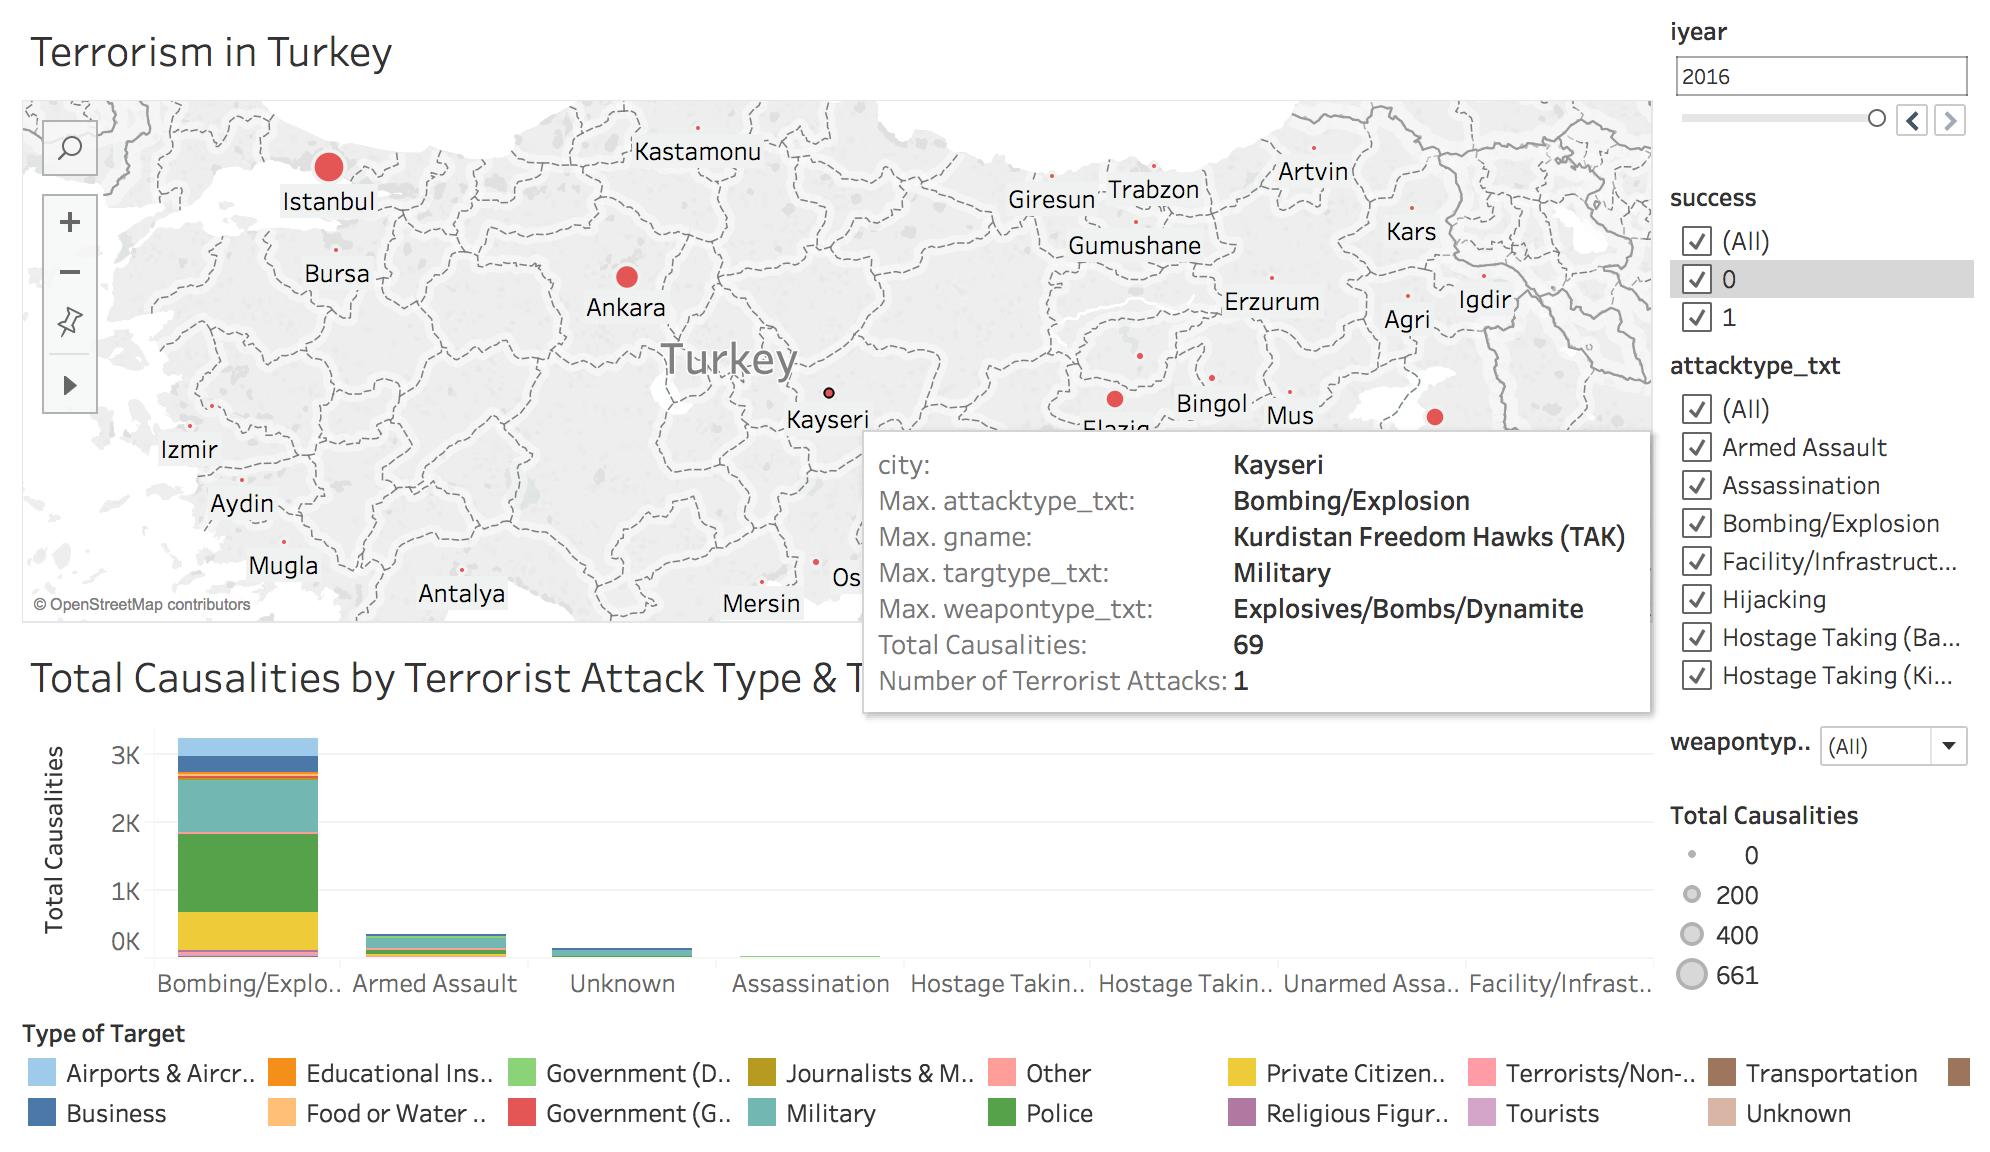

Layout of this report page (visuals, bound fields, positions):
{"tool":"tableau","page":{"name":"Dashboard 1","canvas":[1000,800],"ordinal":0},"visuals":[{"type":"worksheet","title":"Sheet 1","mark":"Automatic","rows":["latitude"],"cols":["longitude"],"box":[8,8,824,784]},{"type":"filter","title":"Sheet 1","param":"[federated.0r33ruc1mmh9n51cb5izi0kvz6ea].[none:iyear:ok]","box":[832,8,160,75]},{"type":"filter","title":"Sheet 1","param":"[federated.0r33ruc1mmh9n51cb5izi0kvz6ea].[none:success:ok]","box":[832,83,160,89]},{"type":"filter","title":"Sheet 1","param":"[federated.0r33ruc1mmh9n51cb5izi0kvz6ea].[none:attacktype_txt:nk]","box":[832,172,160,52]},{"type":"legend","title":"Sheet 1","param":"[federated.0r33ruc1mmh9n51cb5izi0kvz6ea].[none:attacktype_txt:nk]","box":[832,224,160,126]},{"type":"legend","title":"Sheet 1","param":"[federated.0r33ruc1mmh9n51cb5izi0kvz6ea].[sum:Calculation_5759541039107858432:qk","box":[832,350,160,166]}]}

Visuals, with their boxes on the page's 1000x800 design canvas (x1, y1, x2, y2). These are canvas units, not pixel positions in the 1990x1152 screenshot, which may show the page scaled, cropped or inside an application window:
"Sheet 1" worksheet: l=8, t=8, r=832, b=792
"Sheet 1" filter: l=832, t=8, r=992, b=83
"Sheet 1" filter: l=832, t=83, r=992, b=172
"Sheet 1" filter: l=832, t=172, r=992, b=224
"Sheet 1" legend: l=832, t=224, r=992, b=350
"Sheet 1" legend: l=832, t=350, r=992, b=516
